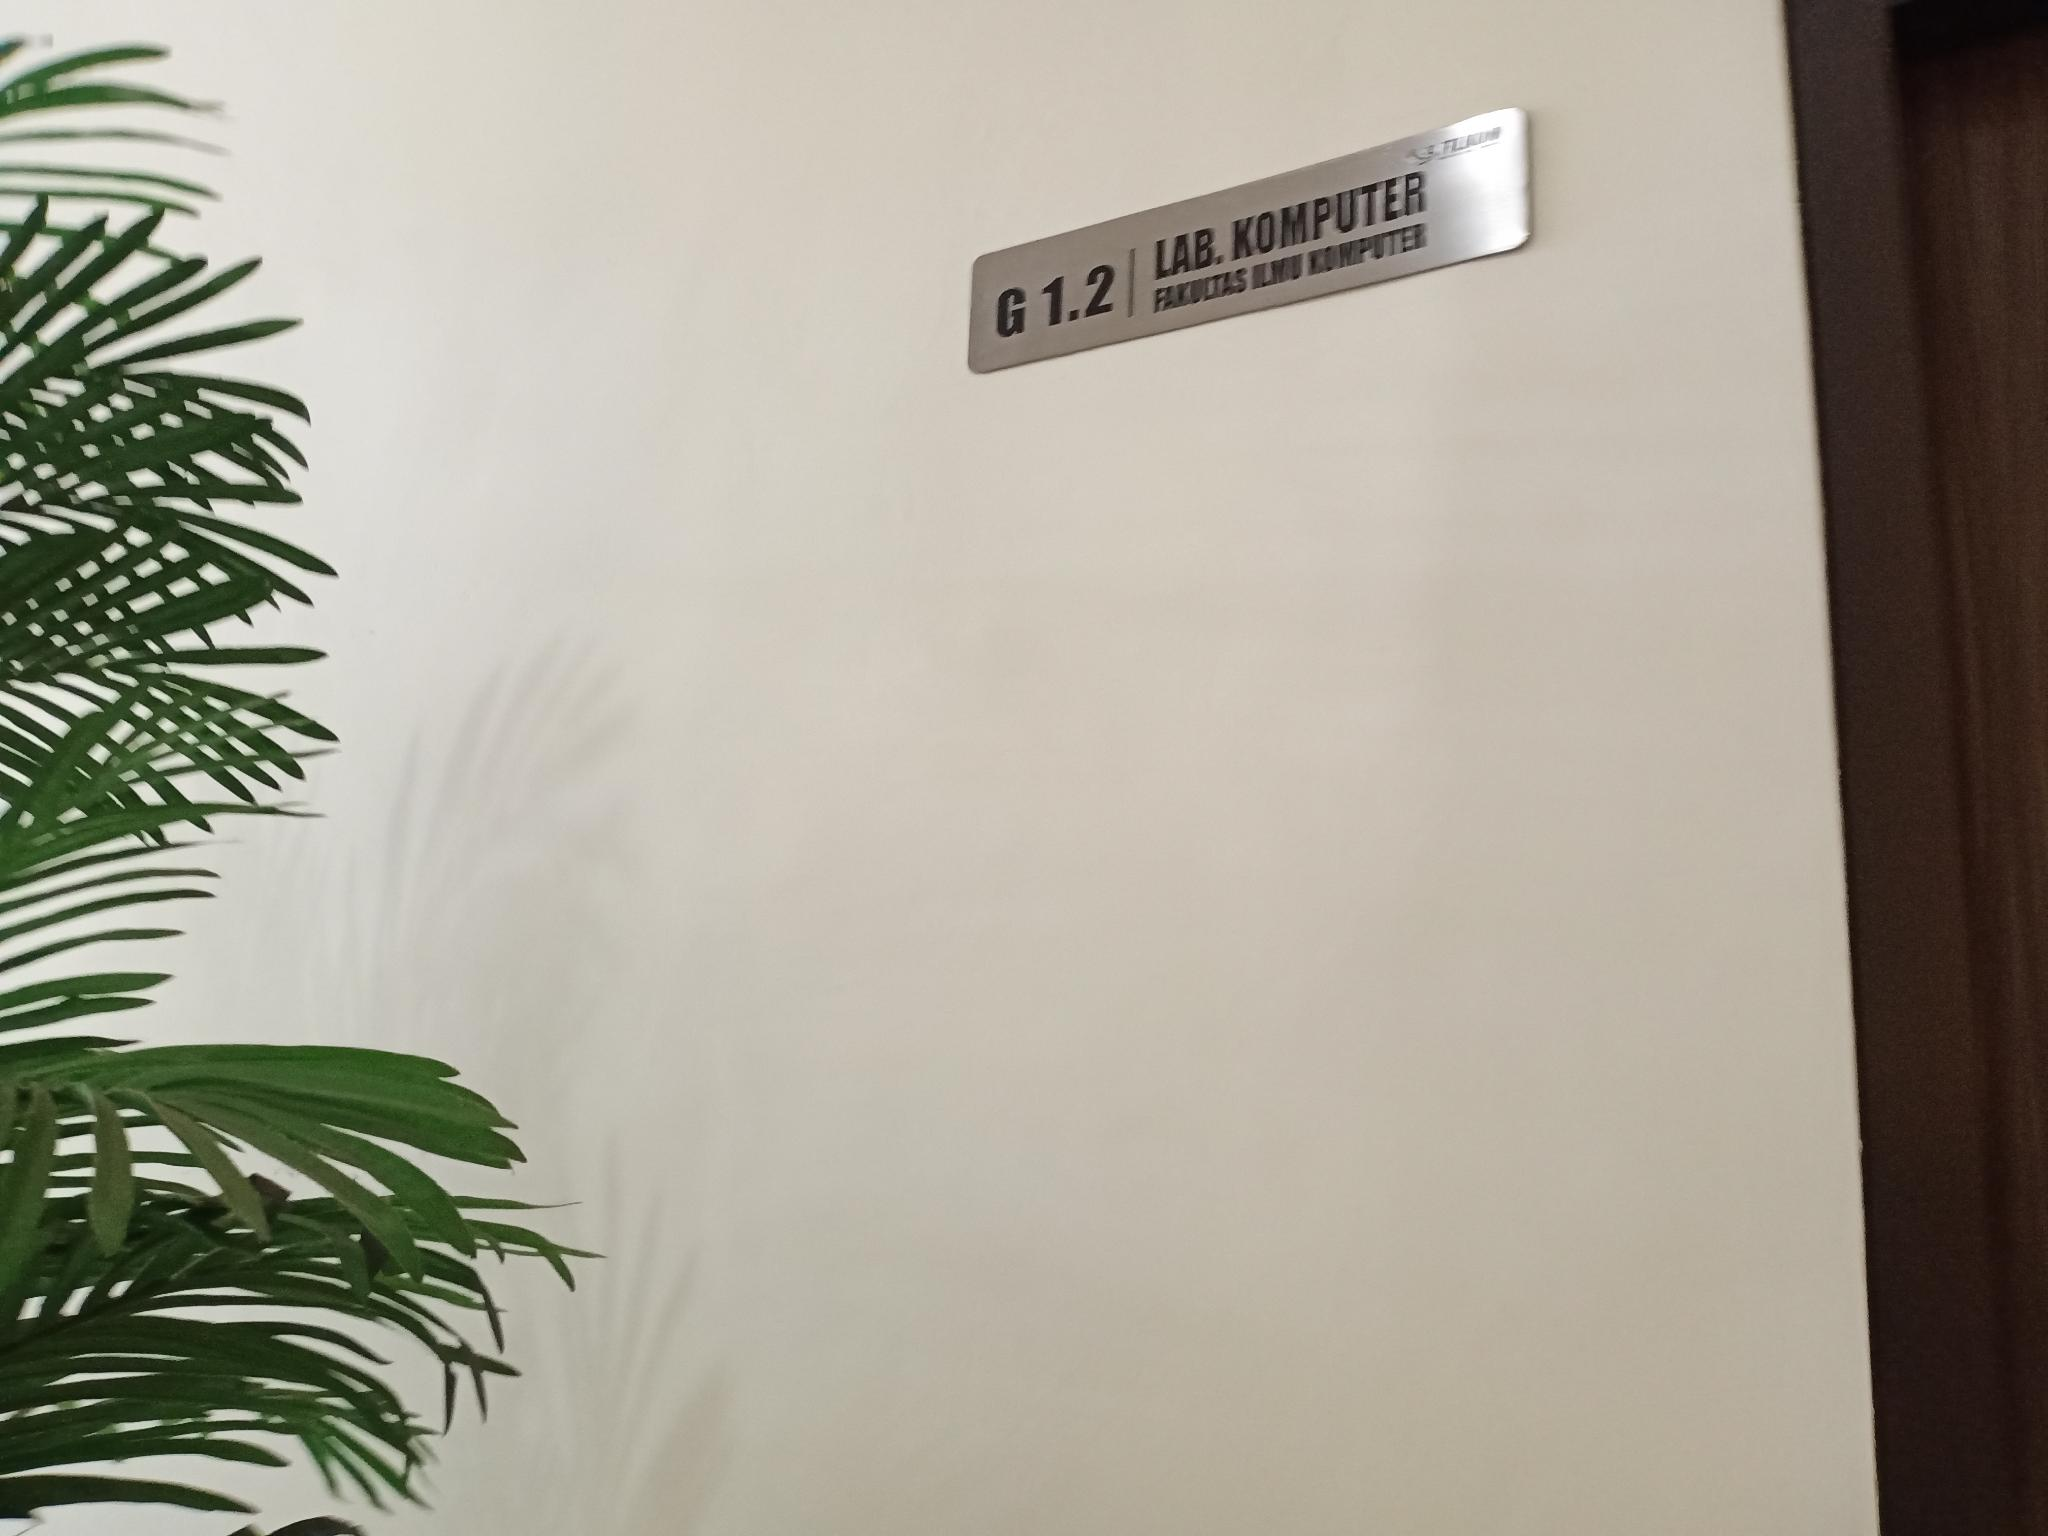plate: (968, 102, 1534, 378)
